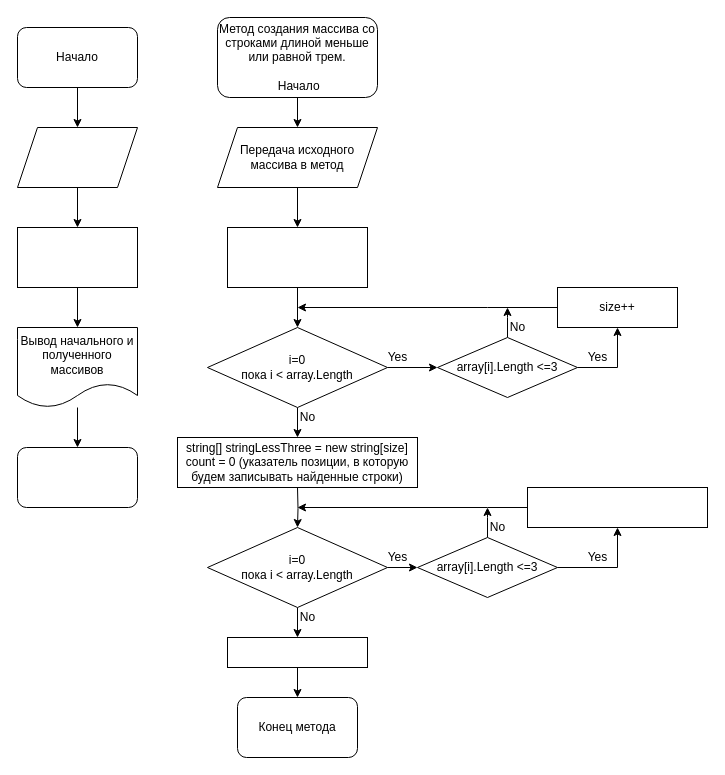
Image size: 725x775. Some labels were removed from this diagram. Here are the shapes that lost their labels. From the top down, the centre of each, then its label:
point 77,157: Метод ввода массива строк
point 77,257: Метод создания массива со строками длиной меньше или равной трем.
point 297,257: size = 0 (начальная длина нужного нам массива)
point 77,477: Конец
point 617,507: stringLessThree[count] =array[i] count ++
point 297,652: return stringLessThree
